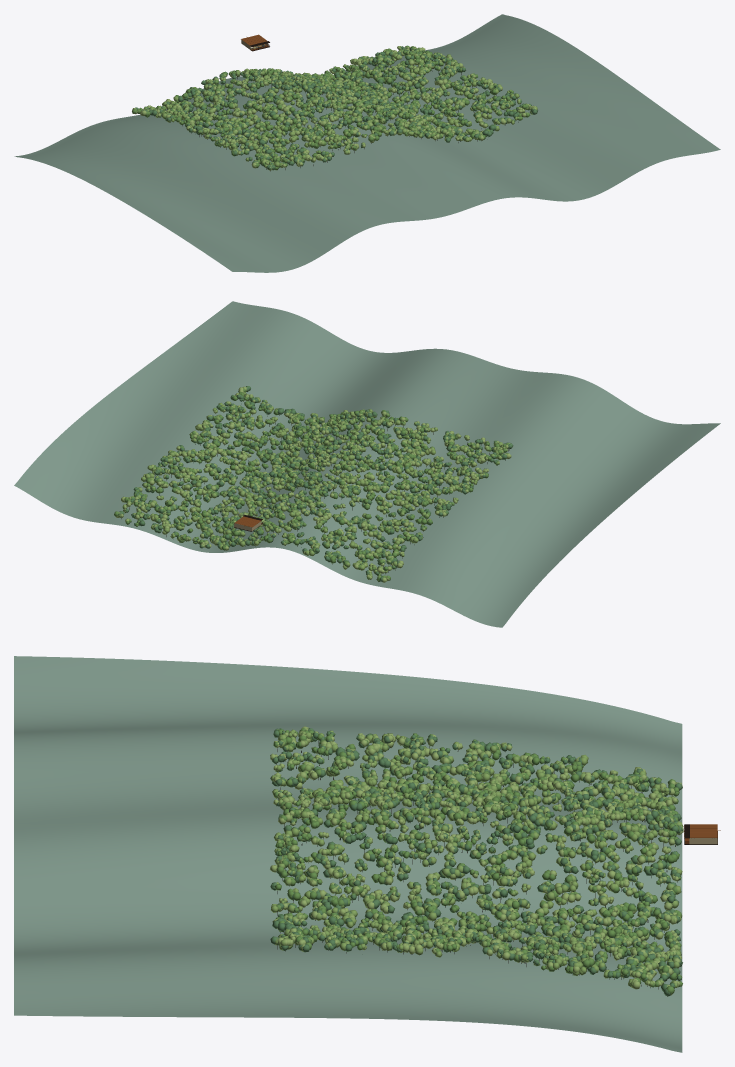
The model's file is retreat.glb.
3 views of the same model, one above another, from view 1: azimuth 30°, elevation 25°; view 2: azimuth 150°, elevation 25°; view 3: azimuth 270°, elevation 25° (orthographic). The views are drawn at different scales.
Parts seen in each view (by area): view 1: Landscape, Forest; view 2: Landscape, Forest; view 3: Landscape, Forest.
Boxes of the visible parts, box(x1,y1,x2,y2) form: Landscape: box(14, 14, 720, 272); Forest: box(132, 45, 538, 171); Landscape: box(14, 301, 720, 627); Forest: box(114, 386, 513, 582); Landscape: box(14, 656, 682, 1052); Forest: box(270, 726, 683, 996).
Size of the model in its own units: 356 by 43.85 by 292.
22 materials, 14 textured.
